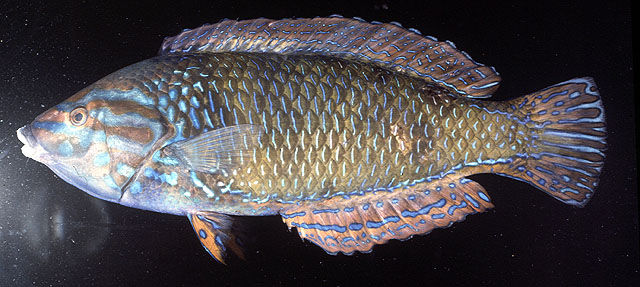fish: (17, 16, 608, 265)
